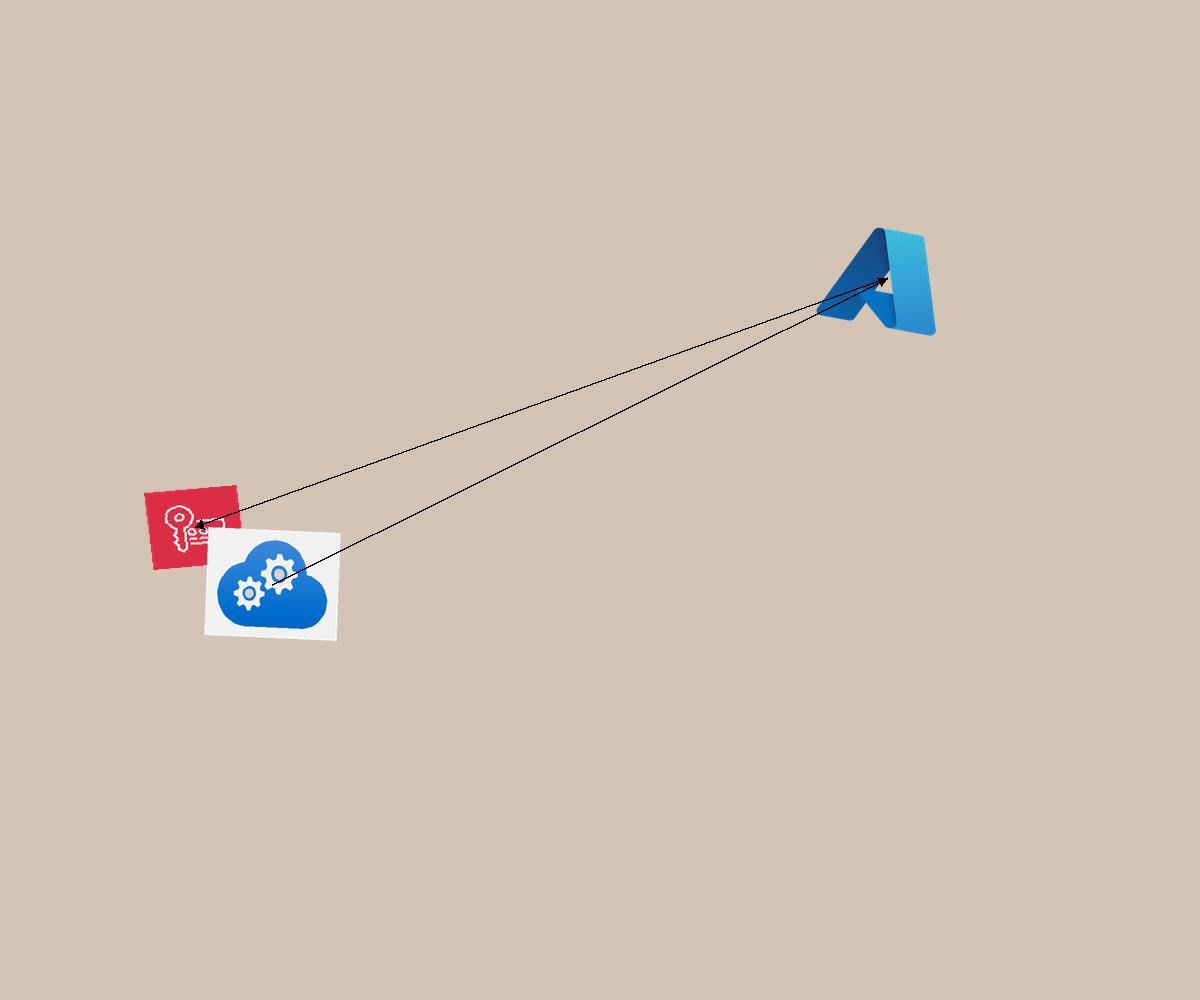AWS-Key-Management-Service: (144, 485, 246, 570)
Azure_cloud_services: (204, 527, 341, 641)
Azure_services: (808, 212, 967, 345)
